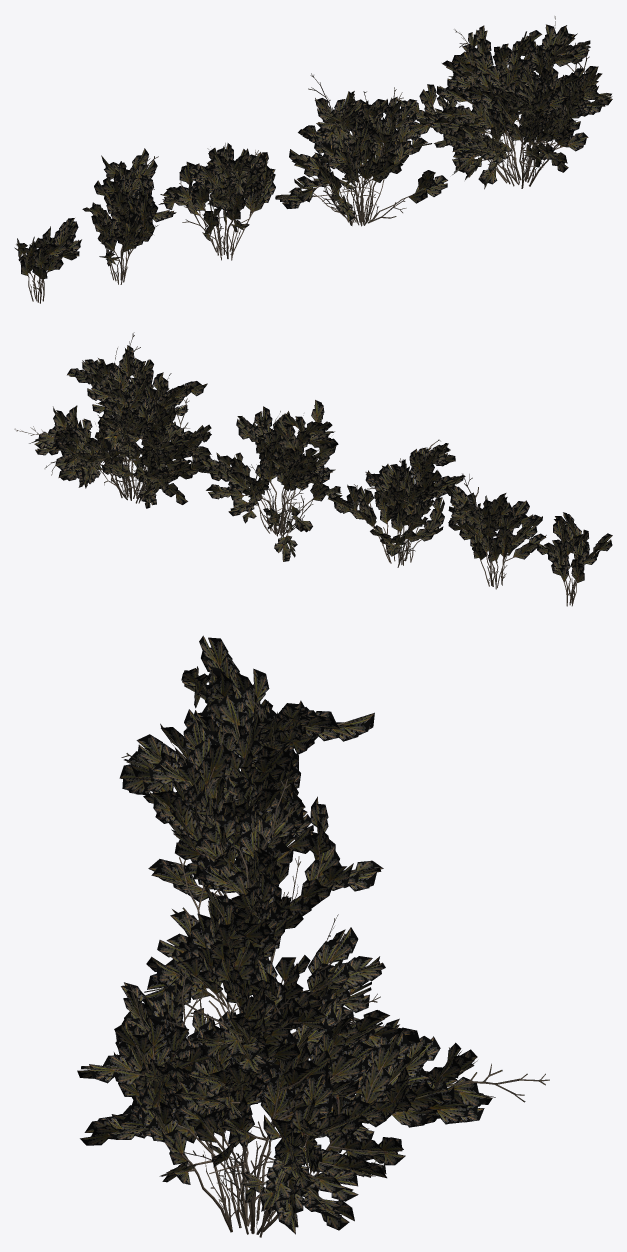
Rendered from wild_rooibos_bush.glb.
The picture shows the model from 3 angles, top to bottom: view 1: azimuth 30°, elevation 25°; view 2: azimuth 150°, elevation 25°; view 3: azimuth 270°, elevation 25°; orthographic projection. The views are drawn at different scales.
Parts seen in each view (by area): view 1: wild_rooibos_bush_a, wild_rooibos_bush_b, wild_rooibos_bush_c, wild_rooibos_bush_d, wild_rooibos_bush_e; view 2: wild_rooibos_bush_a, wild_rooibos_bush_b, wild_rooibos_bush_c, wild_rooibos_bush_d, wild_rooibos_bush_e; view 3: wild_rooibos_bush_a, wild_rooibos_bush_b, wild_rooibos_bush_c, wild_rooibos_bush_d, wild_rooibos_bush_e.
Boxes of the visible parts, left/top/right/bottom form: wild_rooibos_bush_a: left=397, top=16, right=612, bottom=189; wild_rooibos_bush_b: left=275, top=73, right=447, bottom=226; wild_rooibos_bush_c: left=158, top=143, right=275, bottom=260; wild_rooibos_bush_d: left=82, top=148, right=176, bottom=284; wild_rooibos_bush_e: left=14, top=218, right=81, bottom=303; wild_rooibos_bush_a: left=14, top=332, right=218, bottom=508; wild_rooibos_bush_b: left=201, top=400, right=342, bottom=561; wild_rooibos_bush_c: left=328, top=439, right=465, bottom=567; wild_rooibos_bush_d: left=445, top=473, right=546, bottom=589; wild_rooibos_bush_e: left=537, top=512, right=612, bottom=606; wild_rooibos_bush_a: left=77, top=958, right=549, bottom=1237; wild_rooibos_bush_b: left=142, top=778, right=385, bottom=1038; wild_rooibos_bush_c: left=119, top=718, right=383, bottom=963; wild_rooibos_bush_d: left=160, top=668, right=374, bottom=811; wild_rooibos_bush_e: left=181, top=635, right=272, bottom=755.
Bounding box in the file's own units: 2.28 × 0.5413 × 0.8434.
2 materials, 2 textured.
